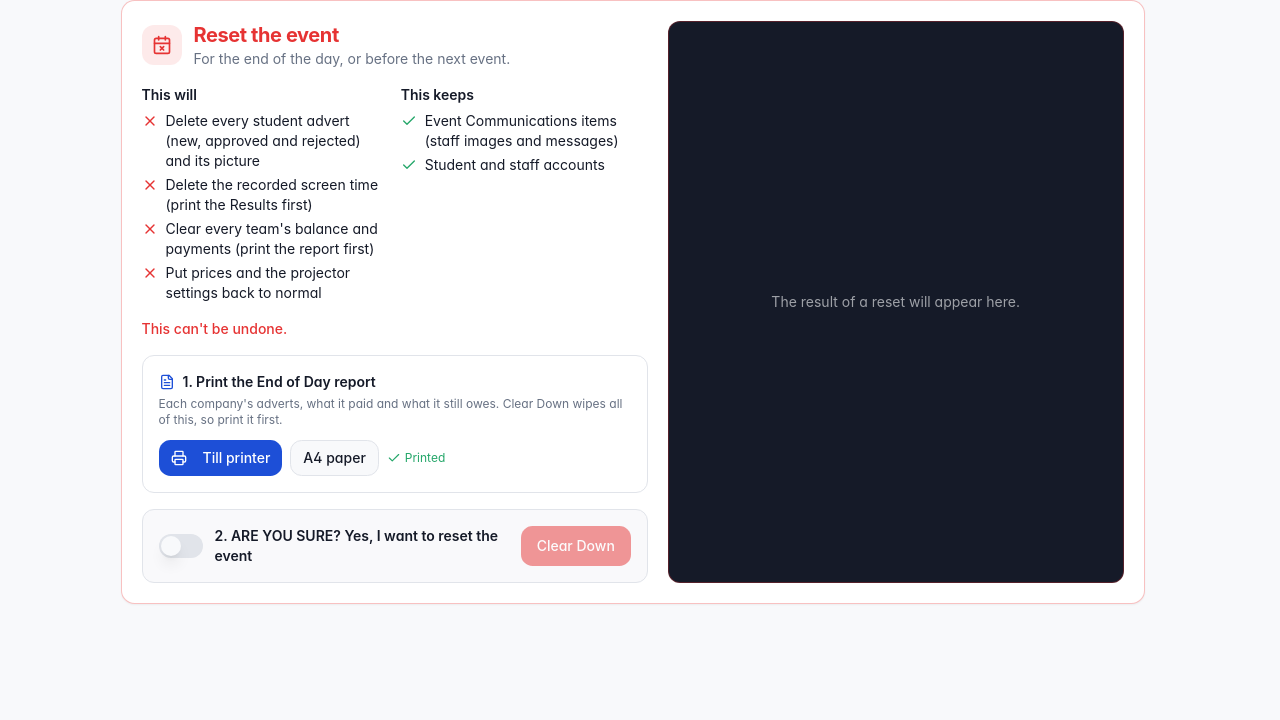
it: EventResetPanel (issue #34) › then resets, turns the switch back off, and needs a fresh report next time
Earlier steps of the test are not shown.
Click the switch named "reset the event".
click(180, 546)  # box top-left (158, 534), bottom-right (202, 558)
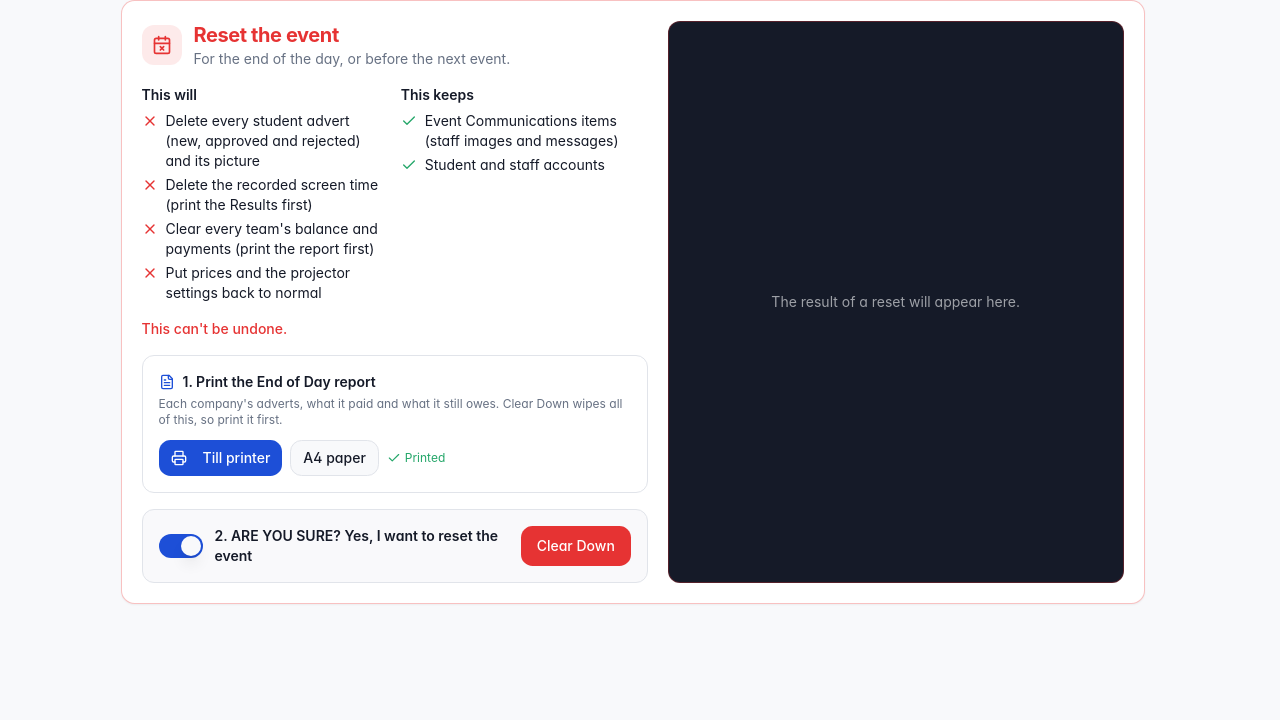
Click the button "Clear Down".
click(576, 546)  # box top-left (521, 526), bottom-right (631, 566)
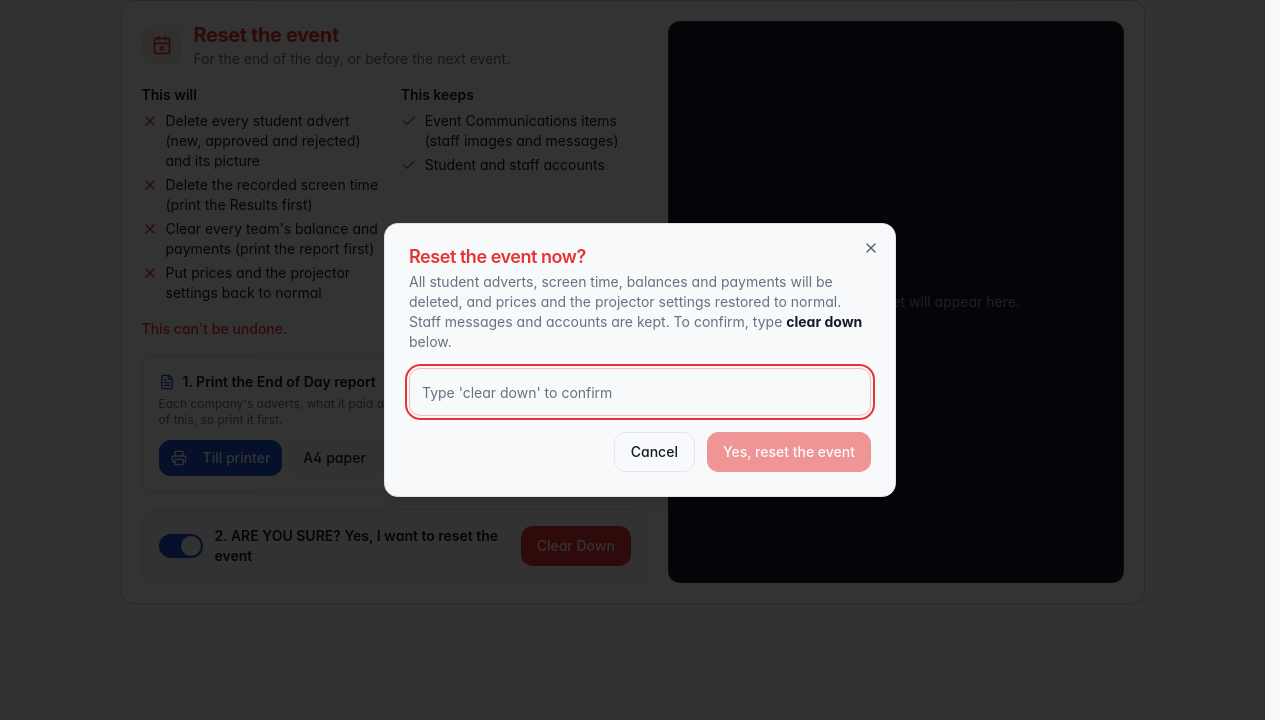
Type "clear down" into the field named "type clear down to confirm".
click(640, 392); type("clear down")  # box top-left (409, 368), bottom-right (871, 416)
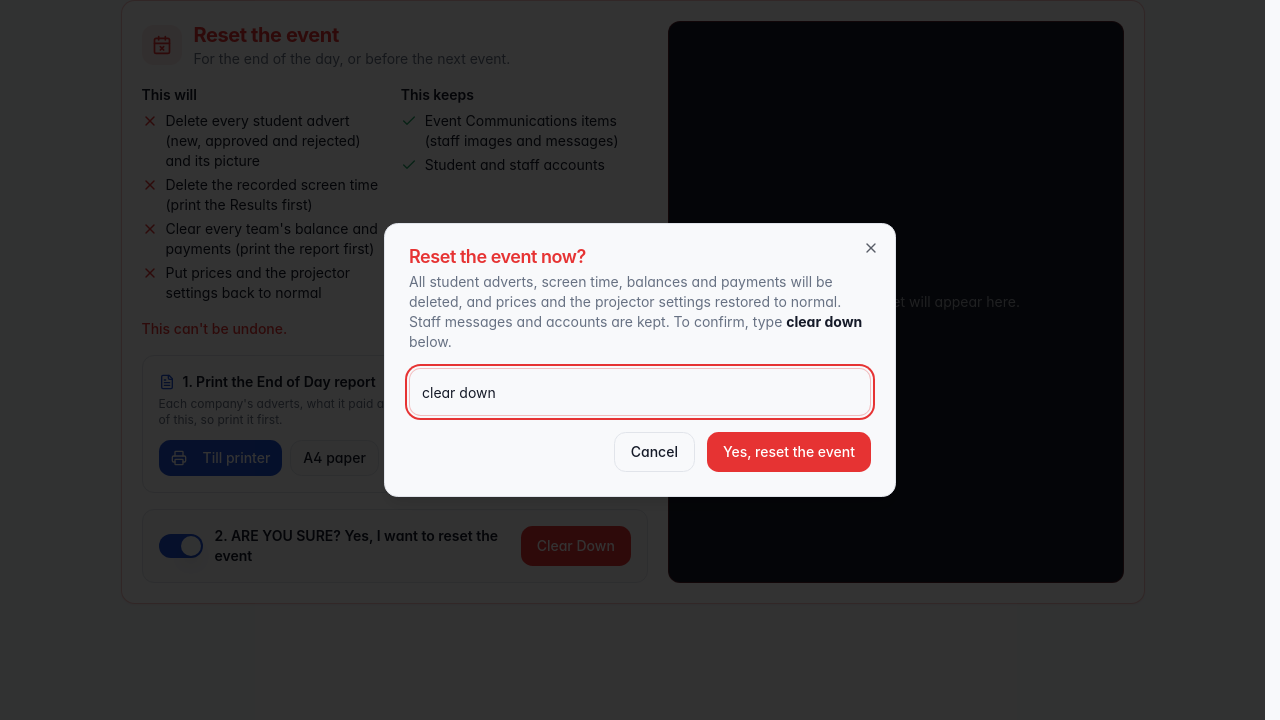
Click the button "Yes, reset the event".
click(789, 452)  # box top-left (707, 432), bottom-right (871, 472)
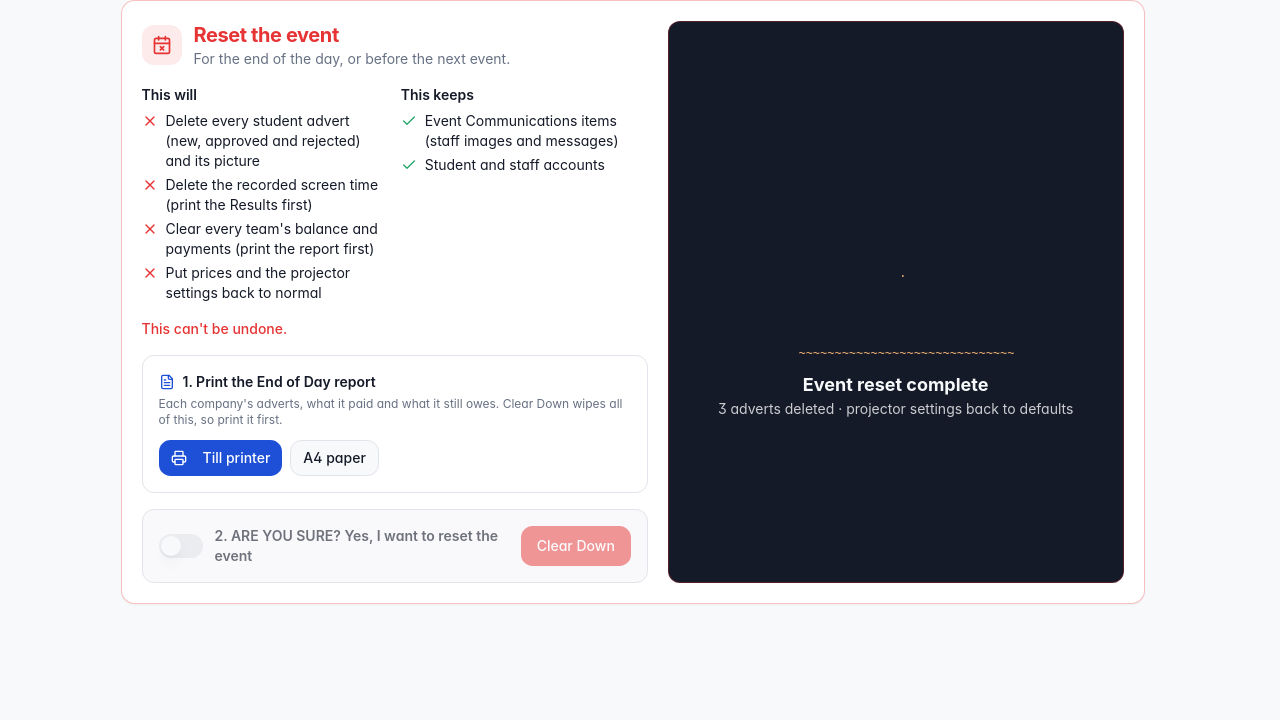
Expected: the switch named "reset the event" is not checked, top-left (158, 534), bottom-right (202, 558)
Expected: the switch named "reset the event" is disabled, top-left (158, 534), bottom-right (202, 558)
Expected: the button "Clear Down" is disabled, top-left (521, 526), bottom-right (631, 566)
Click the button "Till printer".
click(220, 458)  # box top-left (158, 440), bottom-right (282, 476)
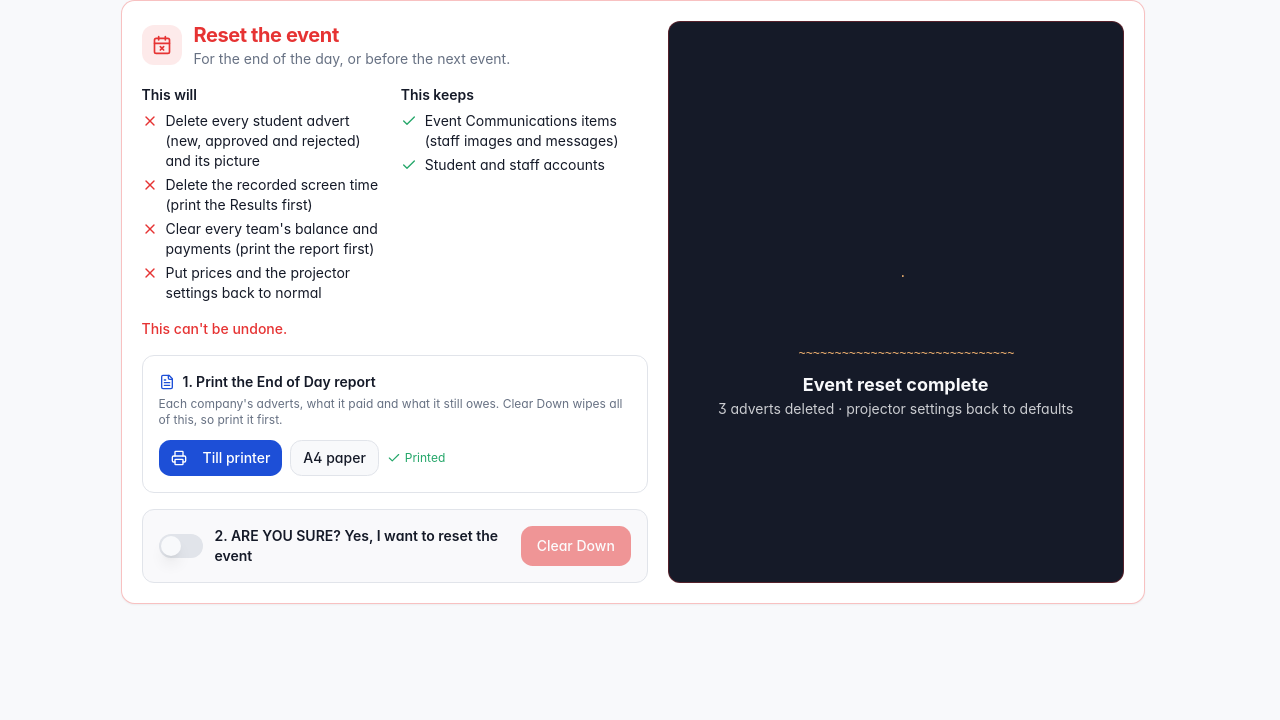
Click the switch named "reset the event".
click(180, 546)  # box top-left (158, 534), bottom-right (202, 558)
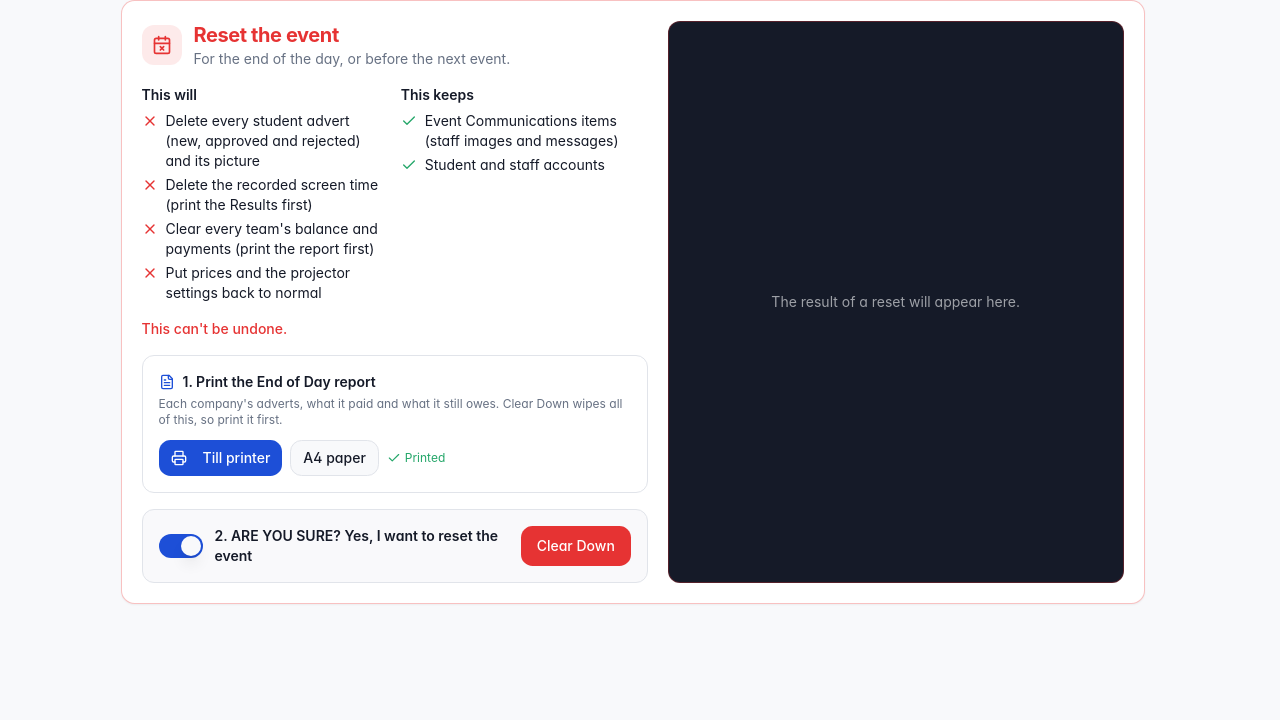
Expected: the message is gone
